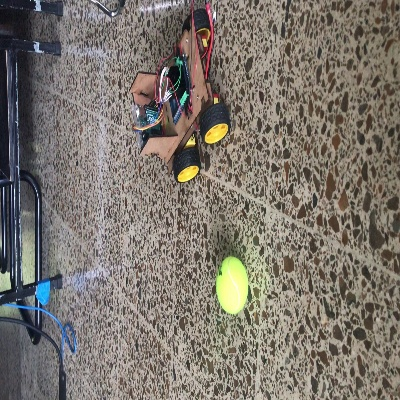Ball: (215, 255, 249, 315)
Robot: (127, 8, 228, 184)
